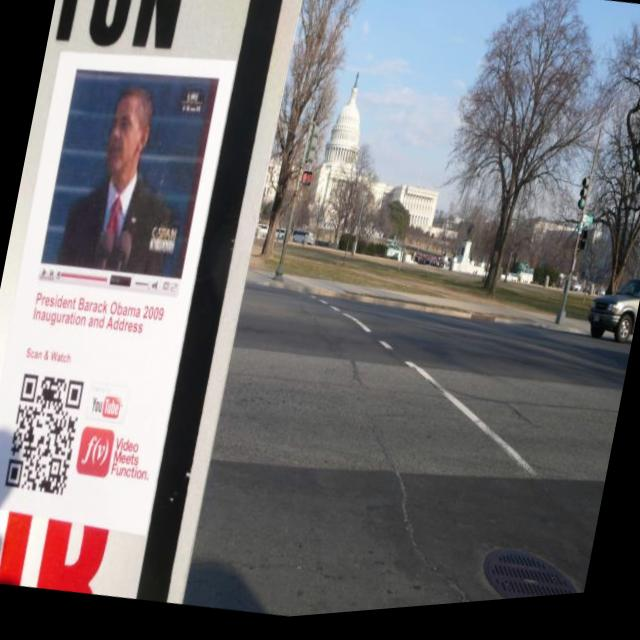qrcode: (4, 371, 87, 501)
